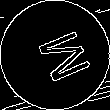M_SW: (23, 24, 87, 86)
